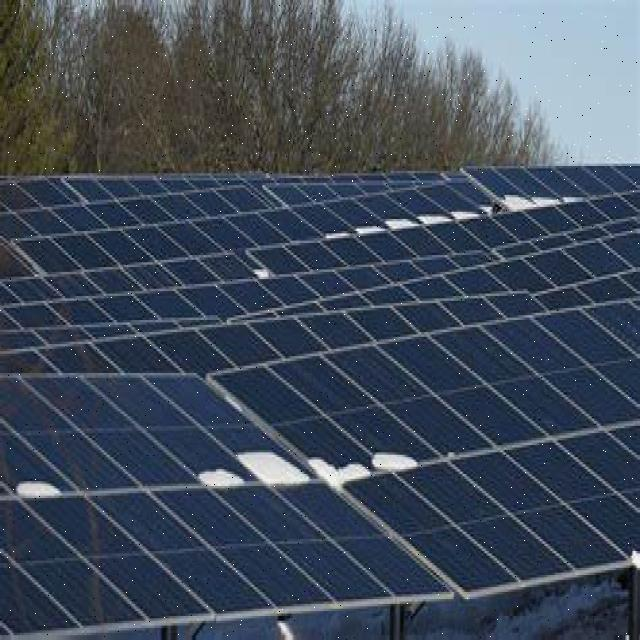snow covered: (167, 376, 449, 532), (307, 182, 597, 270)
